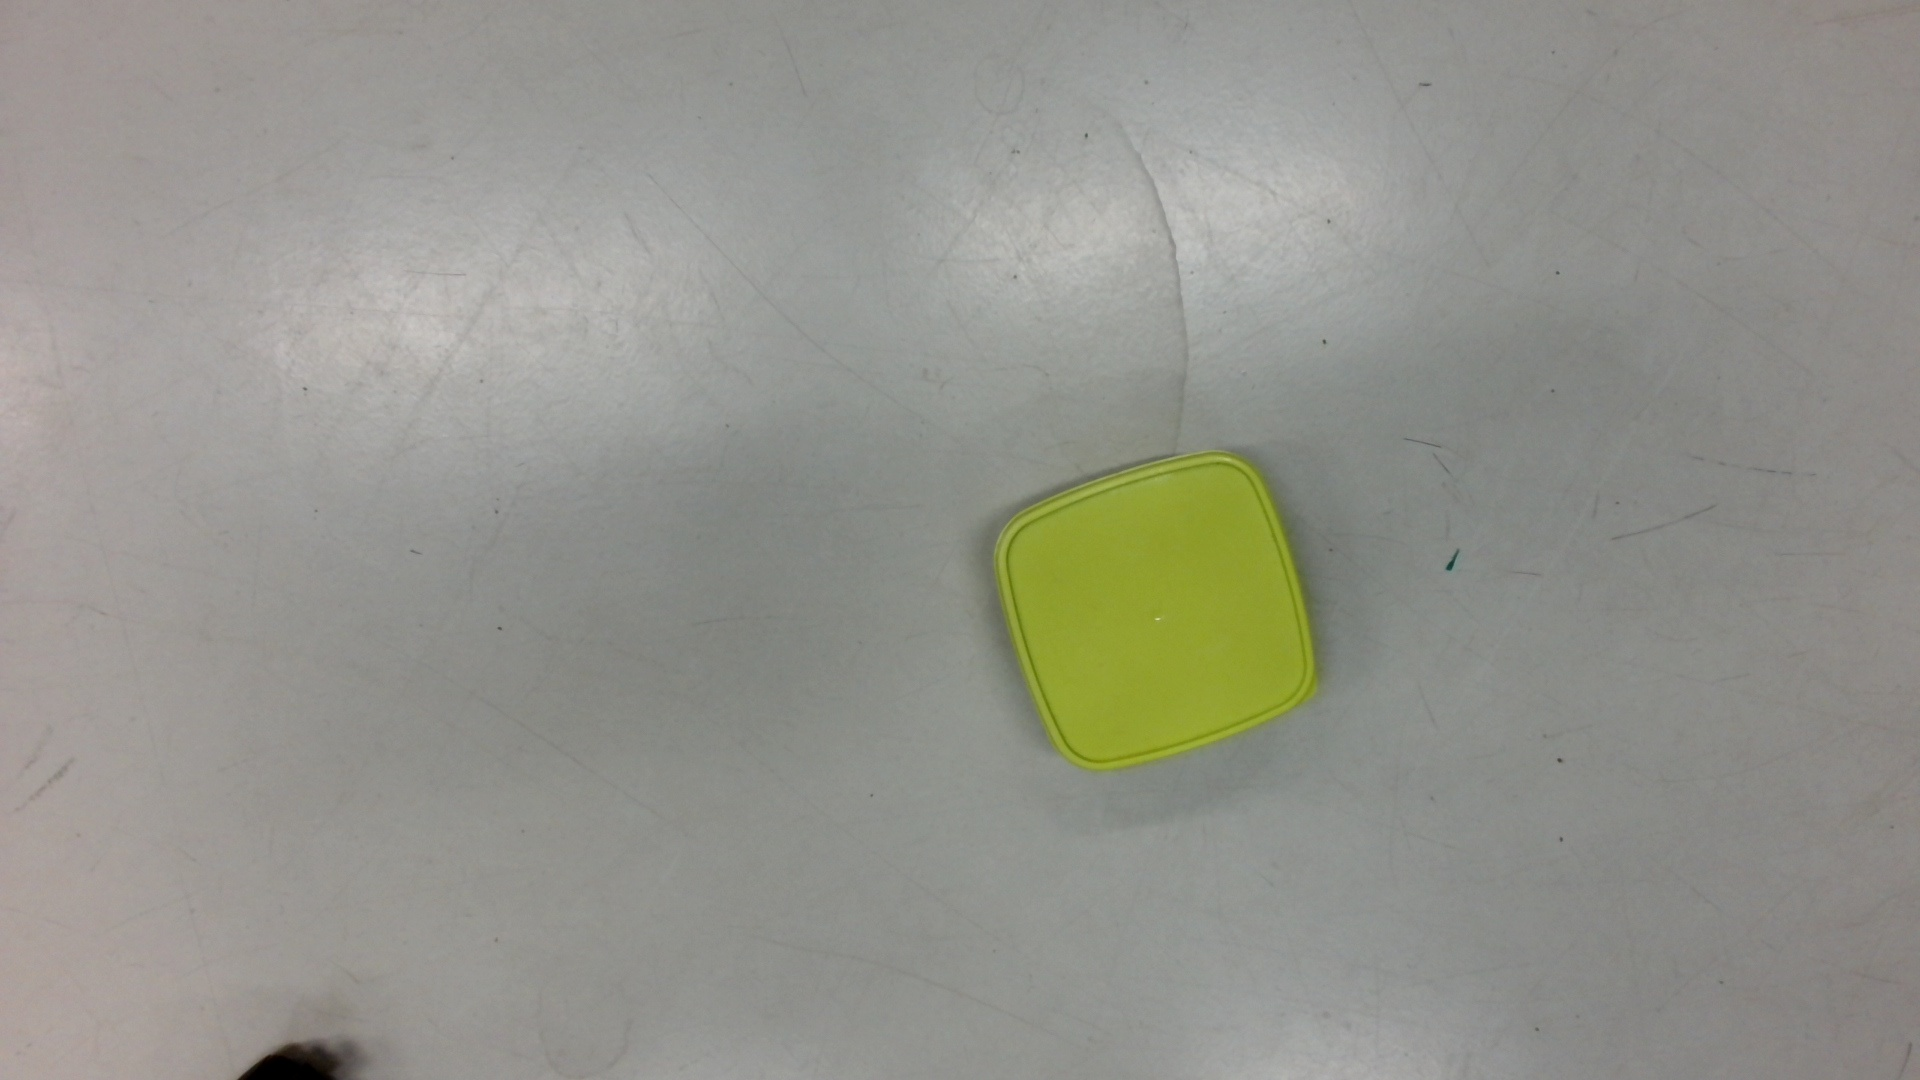Box: (990, 442, 1329, 777)
